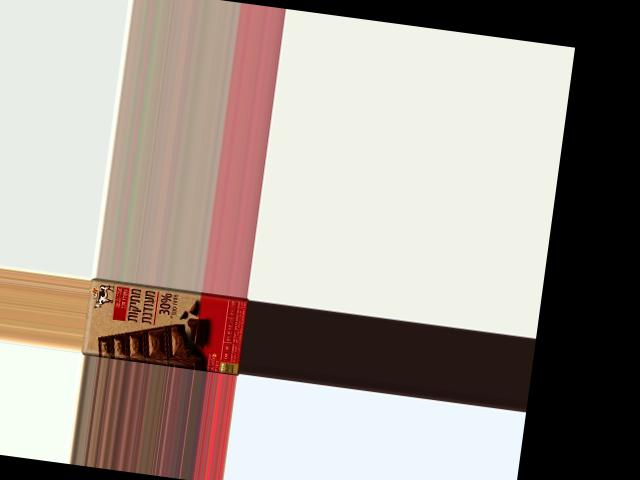chocolate: (81, 276, 248, 375)
